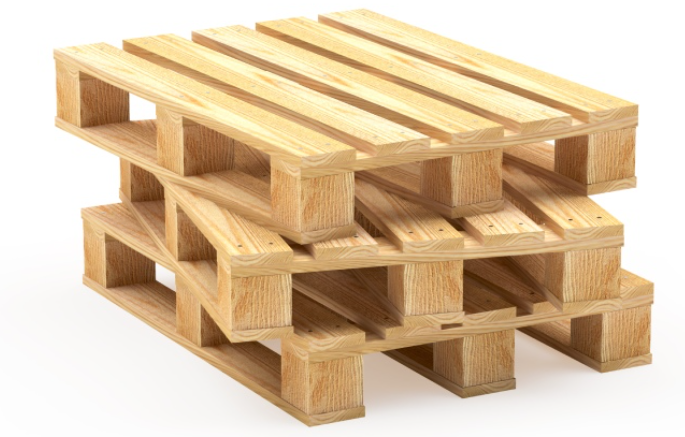hole pallet: (281, 143, 652, 402)
